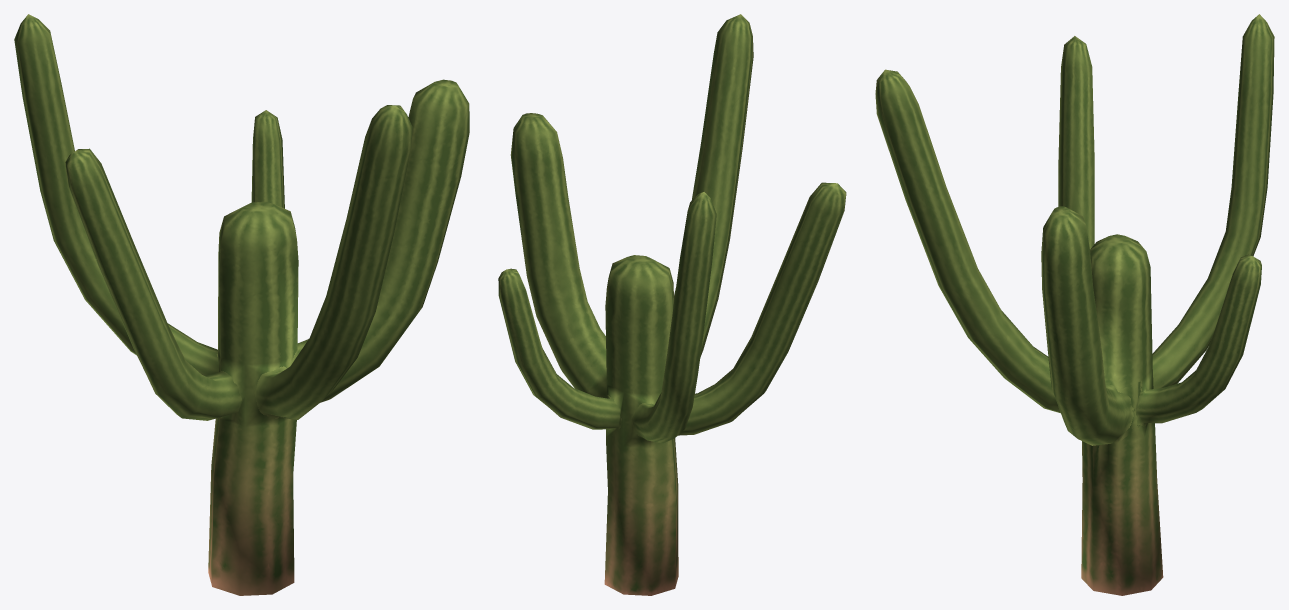
Rendered from Cactus_medium.glb.
3 renders of one model, left to right at view 1: azimuth 30°, elevation 25°; view 2: azimuth 150°, elevation 25°; view 3: azimuth 270°, elevation 25°, orthographic. The views are drawn at different scales.
Parts seen in each view (by area): view 1: cactus_4_cacturs_4_0; view 2: cactus_4_cacturs_4_0; view 3: cactus_4_cacturs_4_0.
Boxes of the visible parts, x1=… form: cactus_4_cacturs_4_0: x1=14, y1=14, x2=469, y2=595; cactus_4_cacturs_4_0: x1=498, y1=14, x2=846, y2=595; cactus_4_cacturs_4_0: x1=875, y1=14, x2=1274, y2=595.
Bounding box in the file's own units: 2.21 × 3.02 × 2.12.
1 material, 1 textured.
